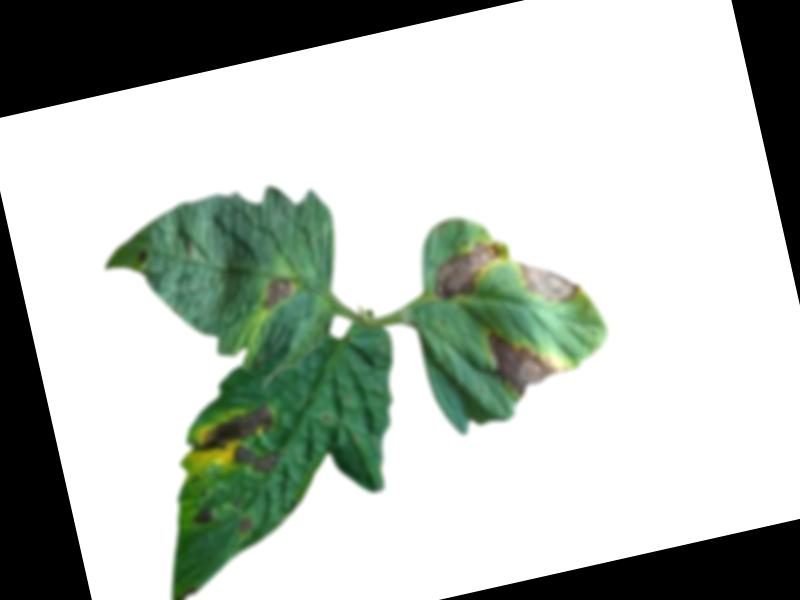Early_blight: (185, 403, 290, 488), (486, 320, 562, 402), (427, 238, 509, 307), (518, 247, 586, 312), (258, 274, 299, 310), (191, 505, 215, 528), (237, 517, 255, 536), (135, 247, 152, 267)
